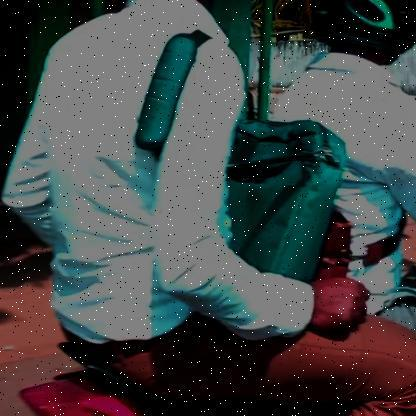motorcycle: (15, 136, 416, 416)
